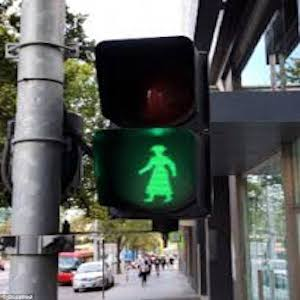green: (132, 141, 183, 208)
